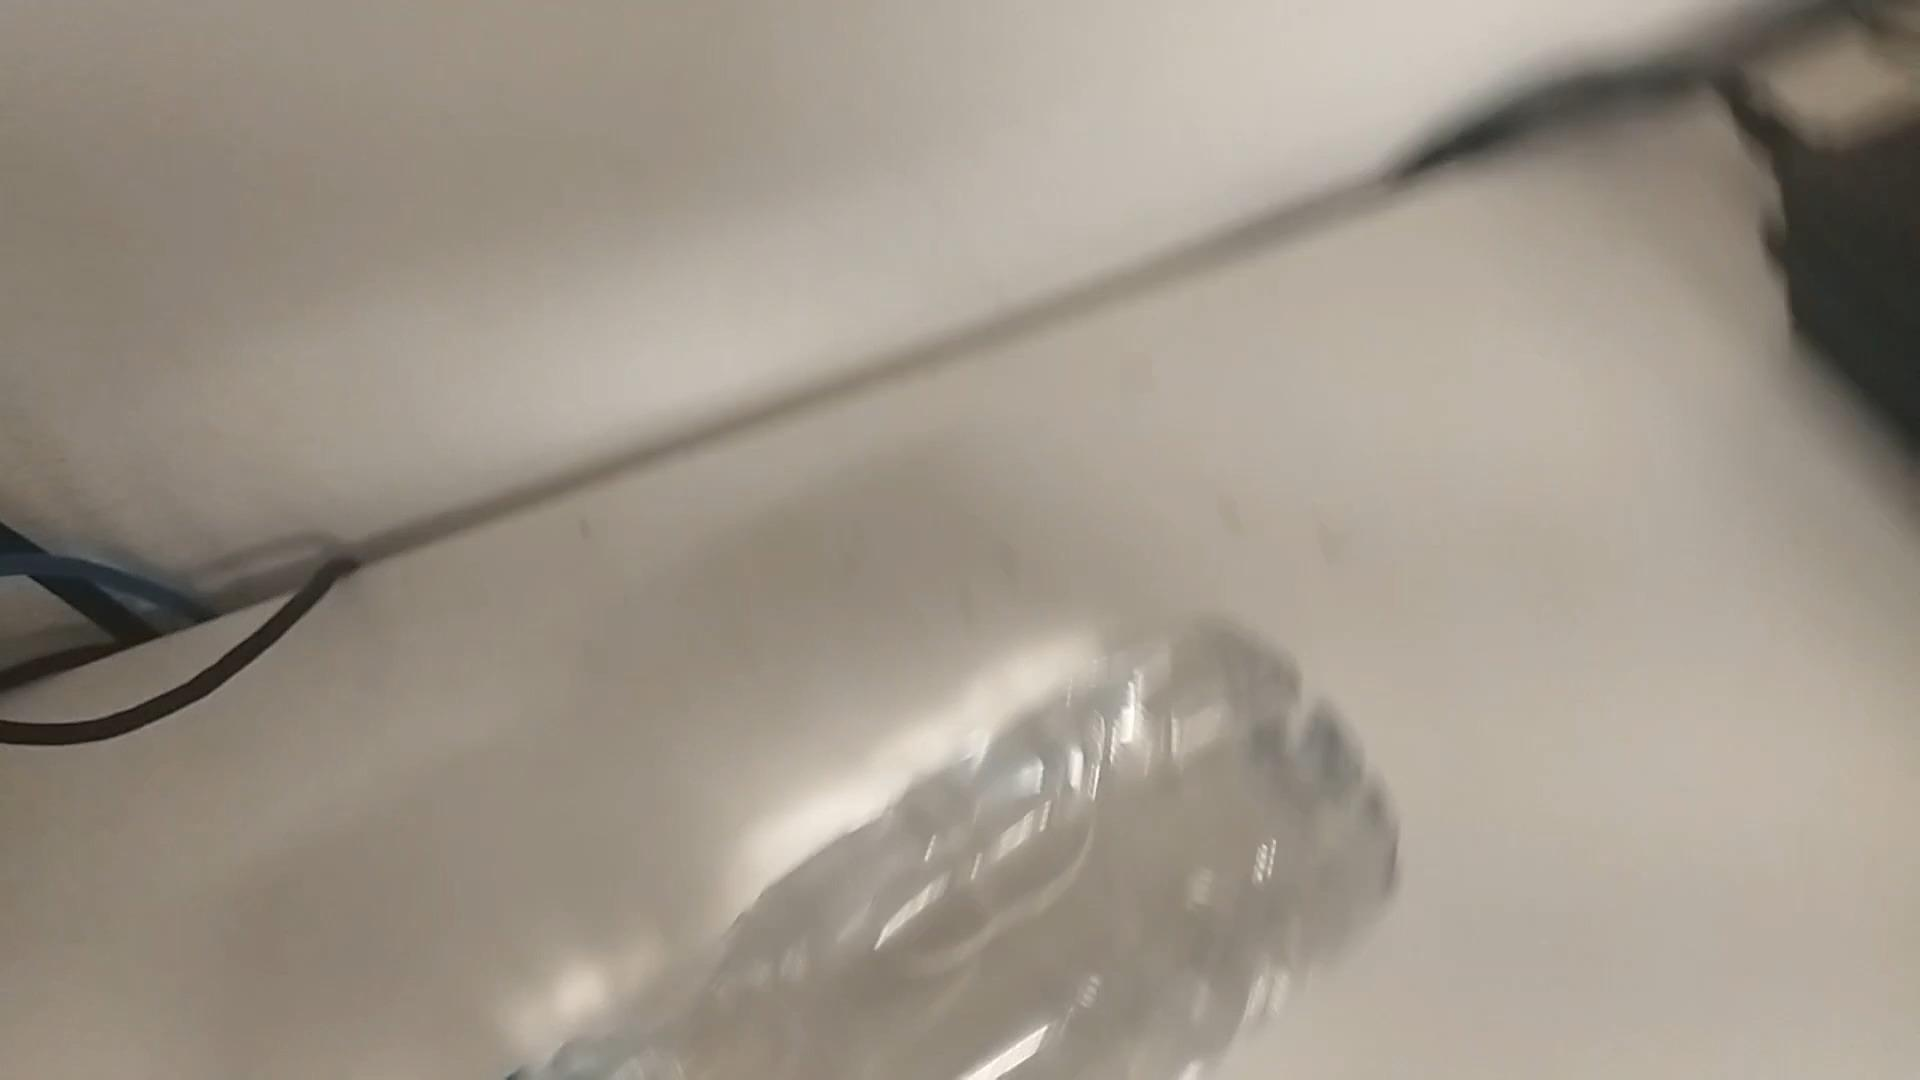agua: (483, 615, 1408, 1080)
